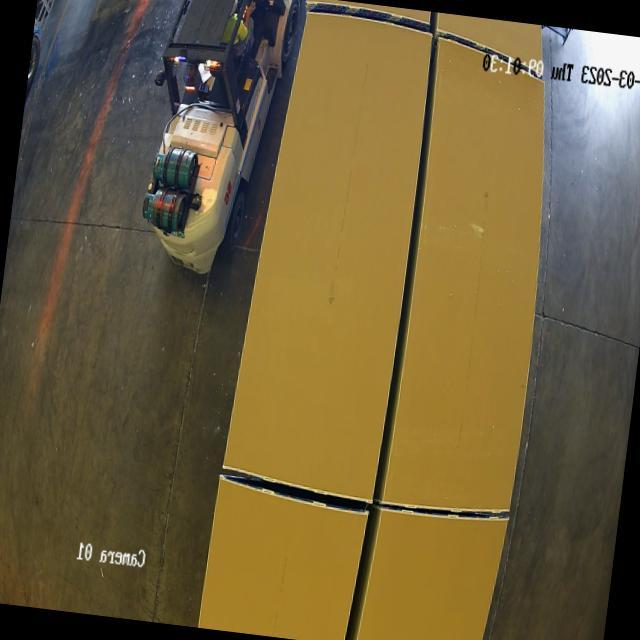driver: (220, 0, 257, 57)
forklift: (128, 0, 292, 293)
